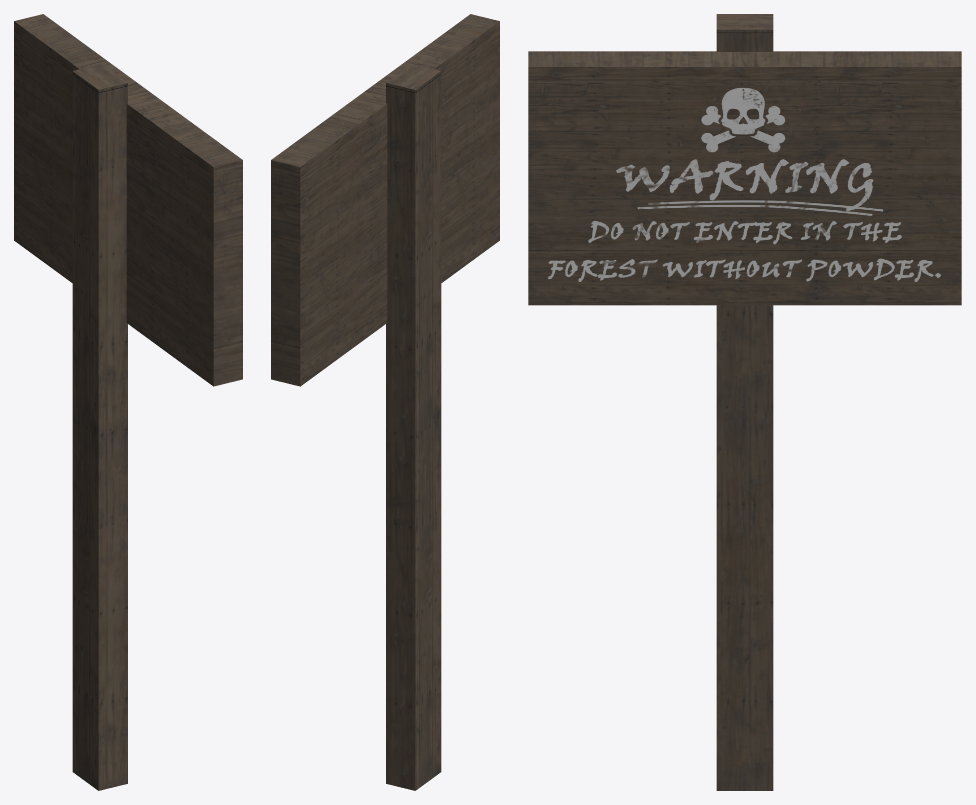
The model's file is Watermill_ExitPanel.fbx.
3 renders of one model, left to right at view 1: azimuth 30°, elevation 25°; view 2: azimuth 150°, elevation 25°; view 3: azimuth 270°, elevation 25°, orthographic. The views are drawn at different scales.
Visible parts, largest first — view 1: PanelExit; view 2: PanelExit; view 3: PanelExit.
Part boxes in pixels (<box>): PanelExit: <box>14,14,242,790</box>; PanelExit: <box>271,14,499,790</box>; PanelExit: <box>528,14,961,790</box>.
Bounding box in the file's own units: 55.07 × 640 × 330.
1 material, 1 textured.
